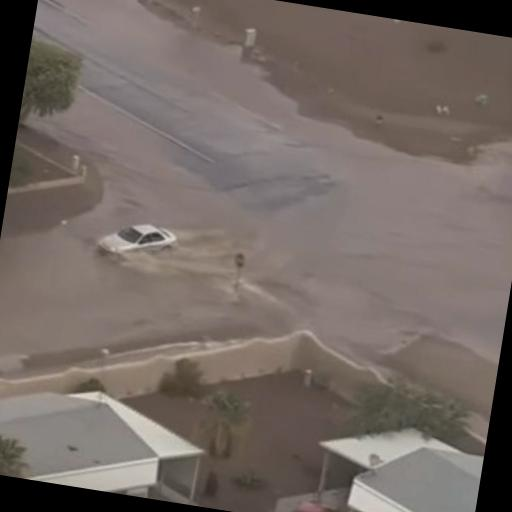flood: (0, 0, 512, 418), (21, 94, 307, 245)
house: (0, 371, 210, 505), (338, 424, 485, 512)
